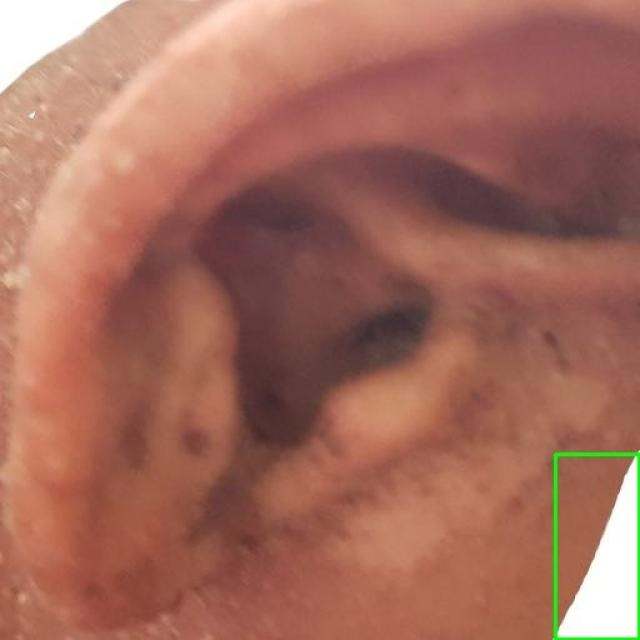Contact Dermatitis: (555, 454, 639, 639)
